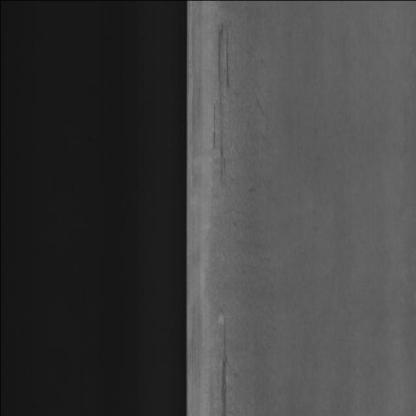silk_spot: (238, 70, 268, 380)
water_spot: (208, 22, 233, 183), (213, 311, 232, 415)
